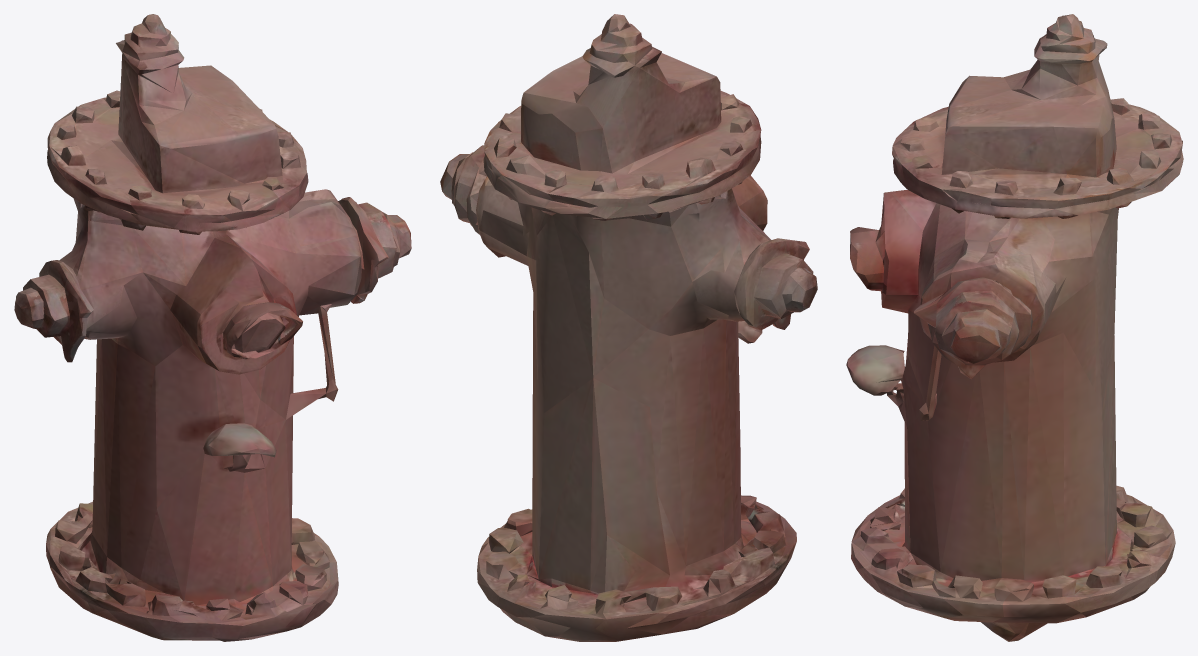
File: cast-hydrant.glb
3 renders of one model, left to right at view 1: azimuth 30°, elevation 25°; view 2: azimuth 150°, elevation 25°; view 3: azimuth 270°, elevation 25°, orthographic. The views are drawn at different scales.
Parts seen in each view (by area): view 1: Mesh_0; view 2: Mesh_0; view 3: Mesh_0.
Boxes of the visible parts, box(x1,y1,x2,y2) form: Mesh_0: box(14, 14, 411, 641); Mesh_0: box(440, 14, 817, 641); Mesh_0: box(846, 14, 1183, 641).
Bounding box in the file's own units: 0.53 × 0.84 × 0.43.
1 material, 1 textured.
